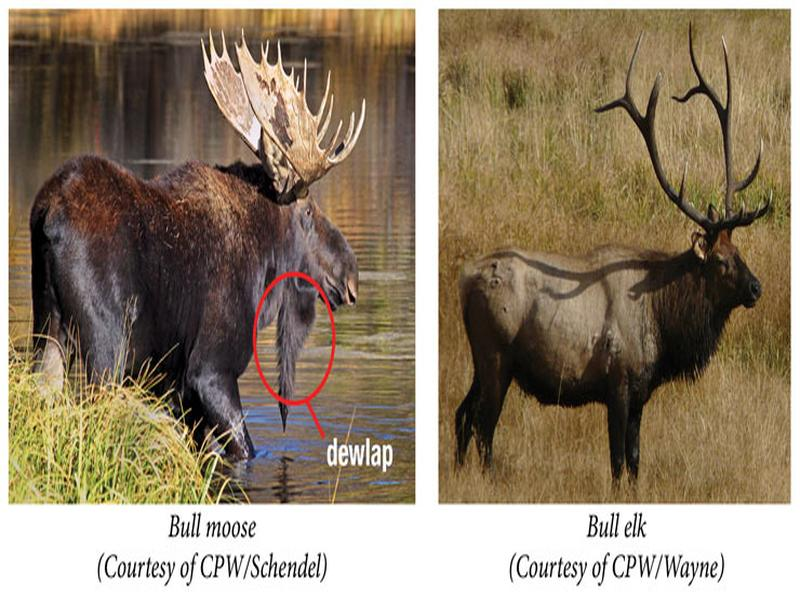elk: (454, 81, 772, 493)
